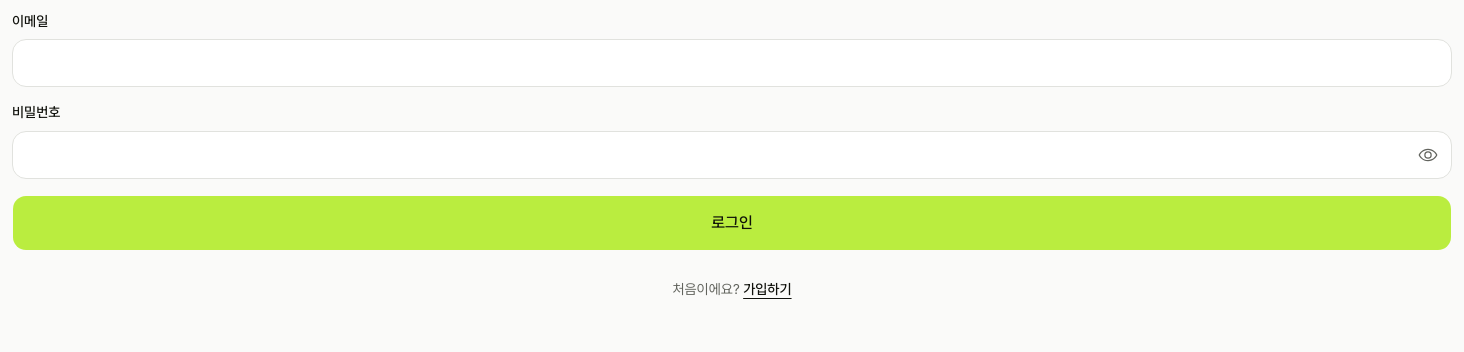
Scenario: AuthForm › 입력한 값을 action에 넘기고 돌려받은 오류를 보여준다
Type "runner@example.com" into the field labelled "이메일" at (732, 63), box [12,39,1452,87]
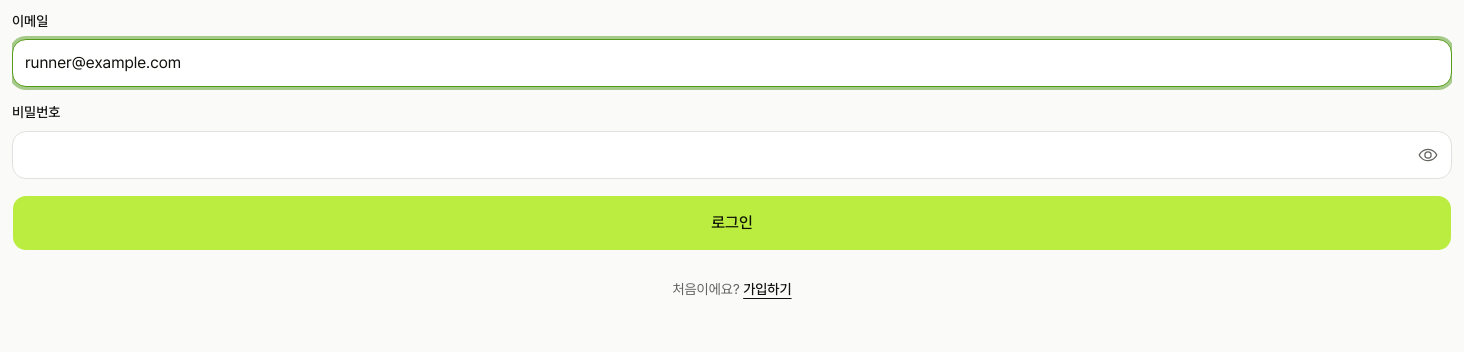
Type "123456" into the password field labelled "비밀번호" at (732, 154), box [12,130,1452,178]
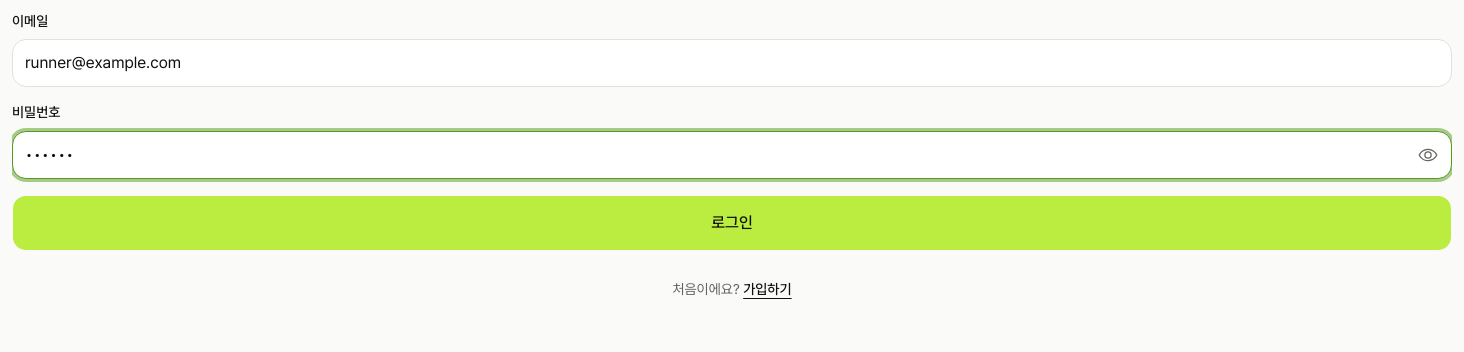
Click the button "로그인" at (732, 222), box [12,194,1452,250]
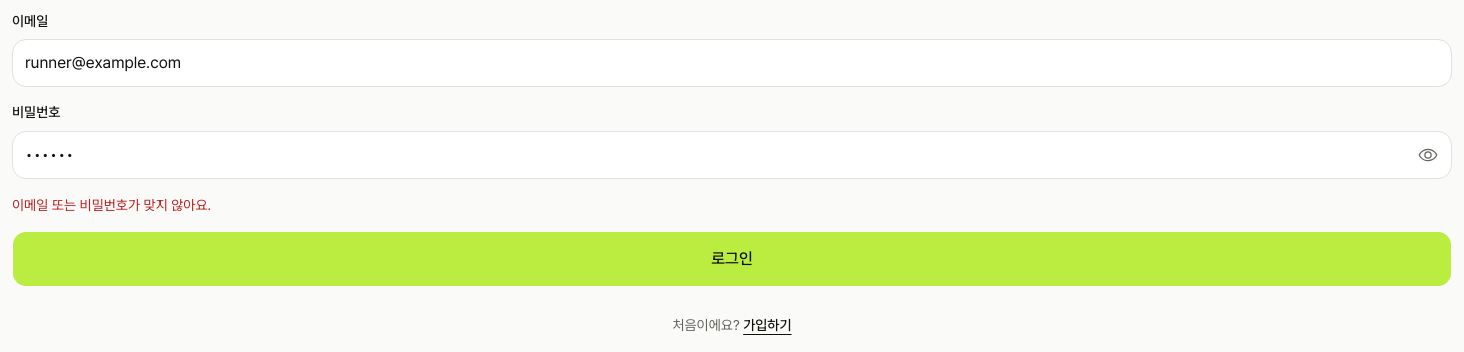
Expected: the message reads "이메일 또는 비밀번호가 맞지 않아요.", [12,196,211,212]
